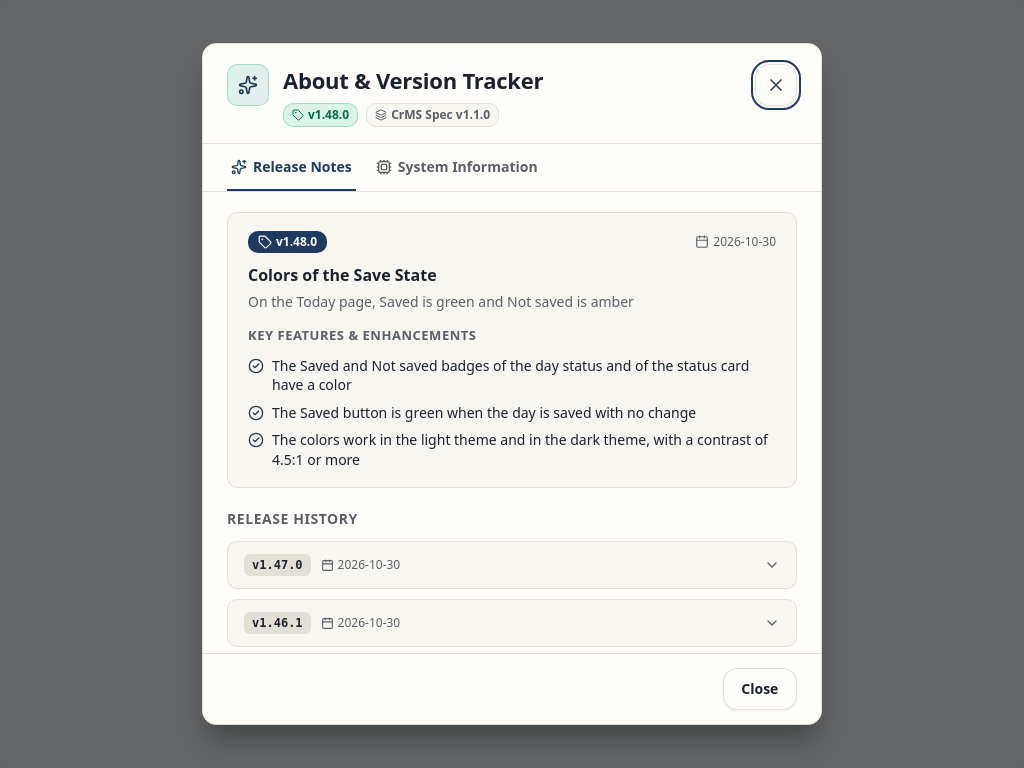
Test: VersionModal Component › switches tabs to System Information when tab button is clicked
Click the tab "System Information": (457, 168) [372,144,542,191]
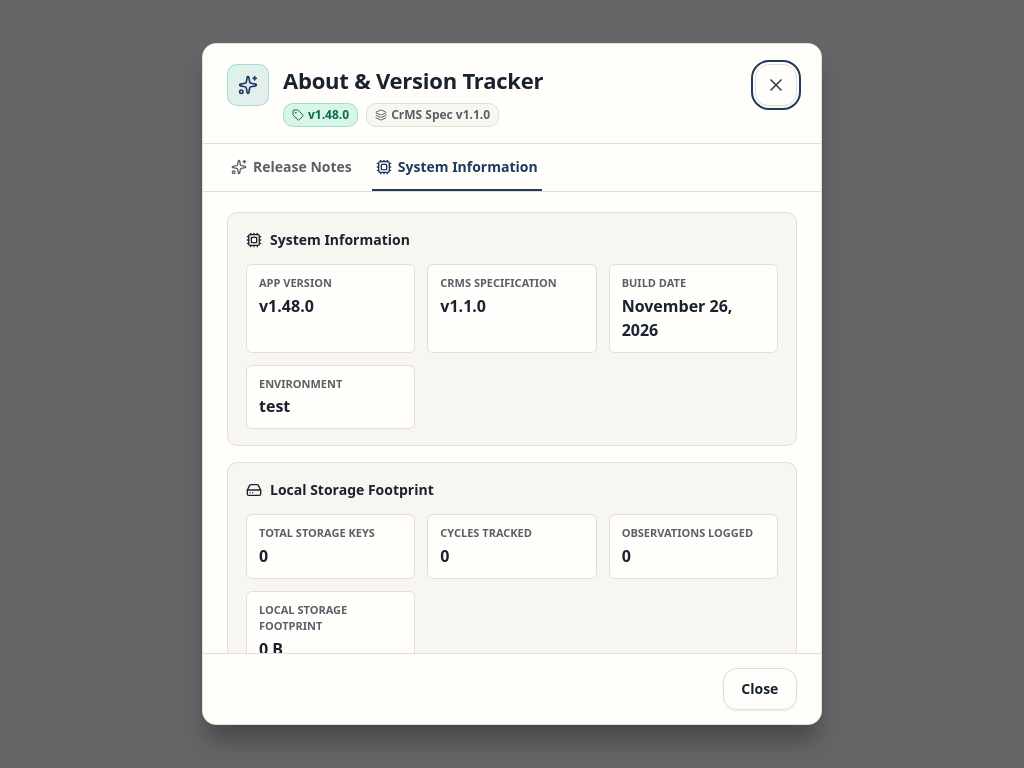
Now the text "App Version" is shown, box [259,275,332,290]
Now the text "CrMS Specification" is shown, box [440,275,557,290]
Now the 1st text "Local Storage Footprint" is shown, box [270,479,434,500]
